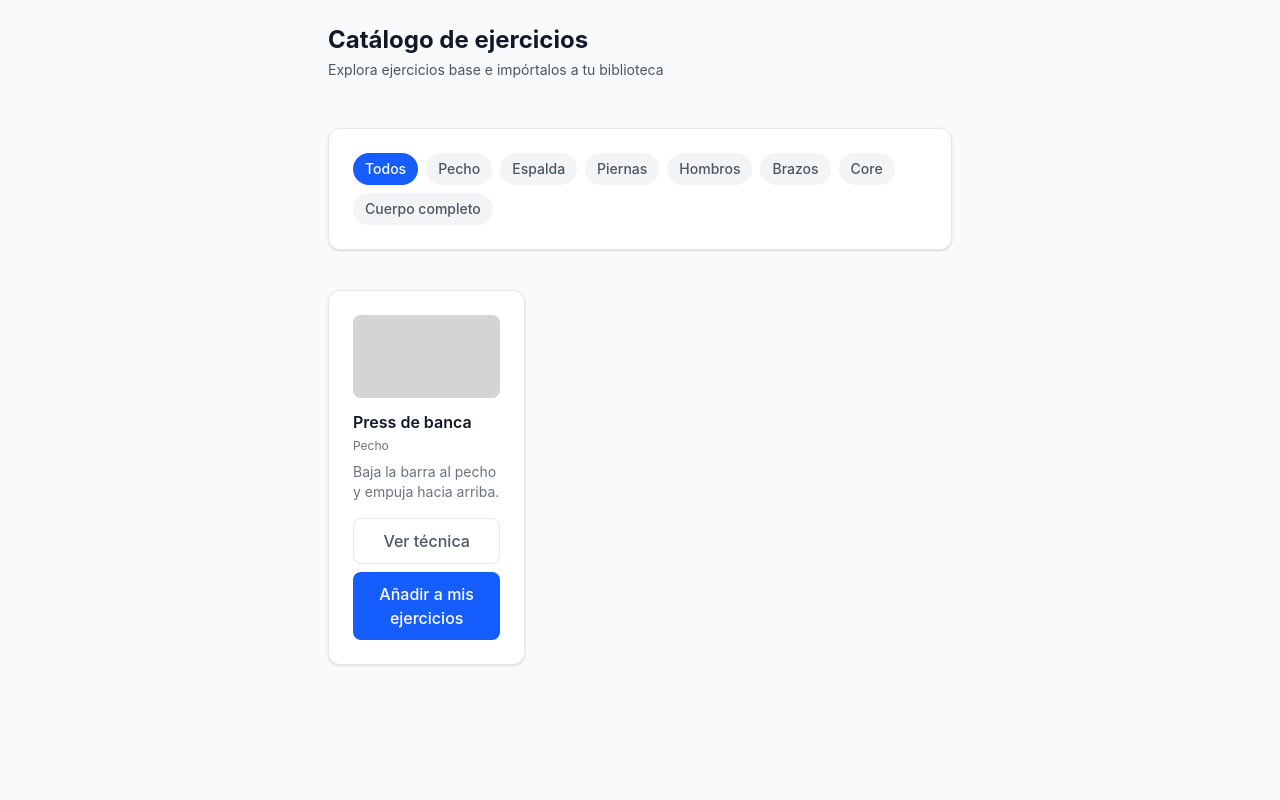
ExerciseCatalogView - ver técnica › abre el modal de técnica con la descripción del ejercicio
What coordinates should you click on to do the following:
click the button "Ver técnica"
I would click on:
 (427, 541)
Its box is [353, 518, 500, 564].
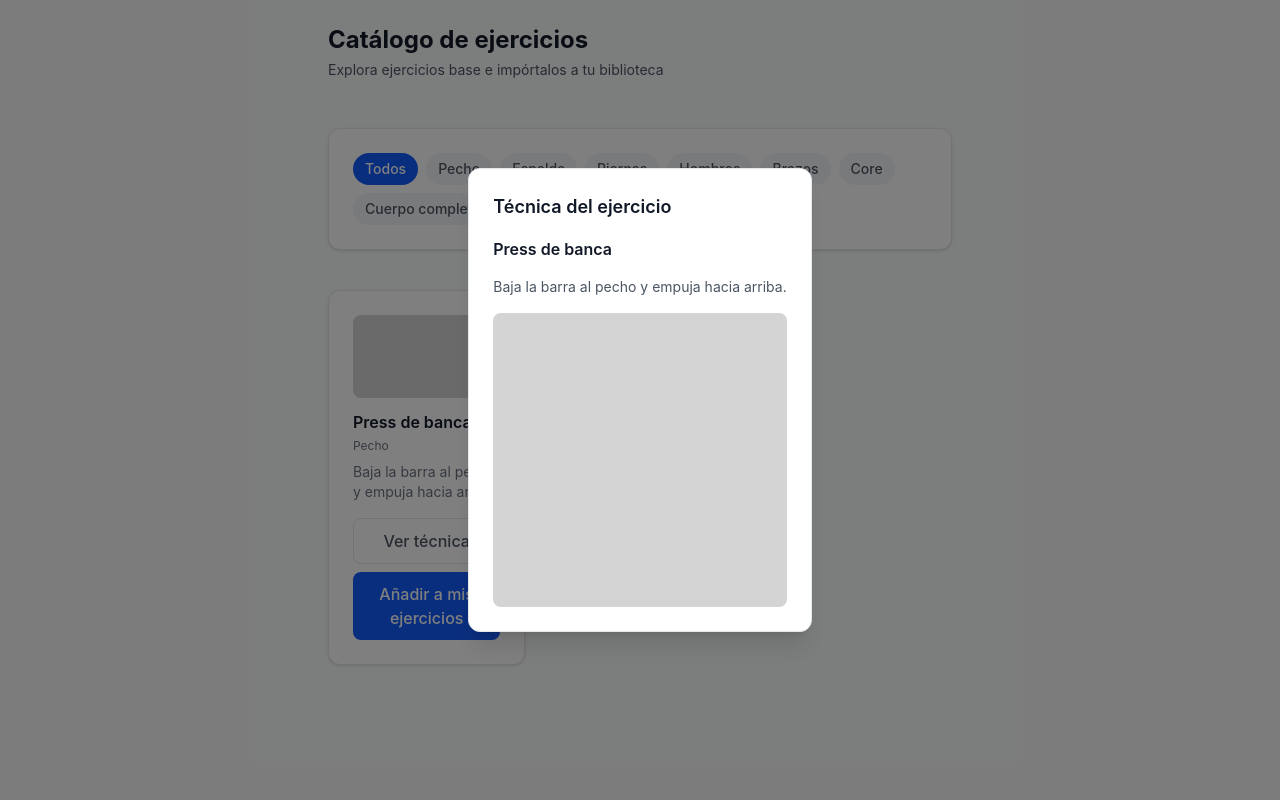
Result: the dialog shows "Press de banca" at [493, 239, 612, 259]
Result: the dialog shows "Baja la barra al pecho y empuja hacia arriba." at [493, 278, 787, 295]
